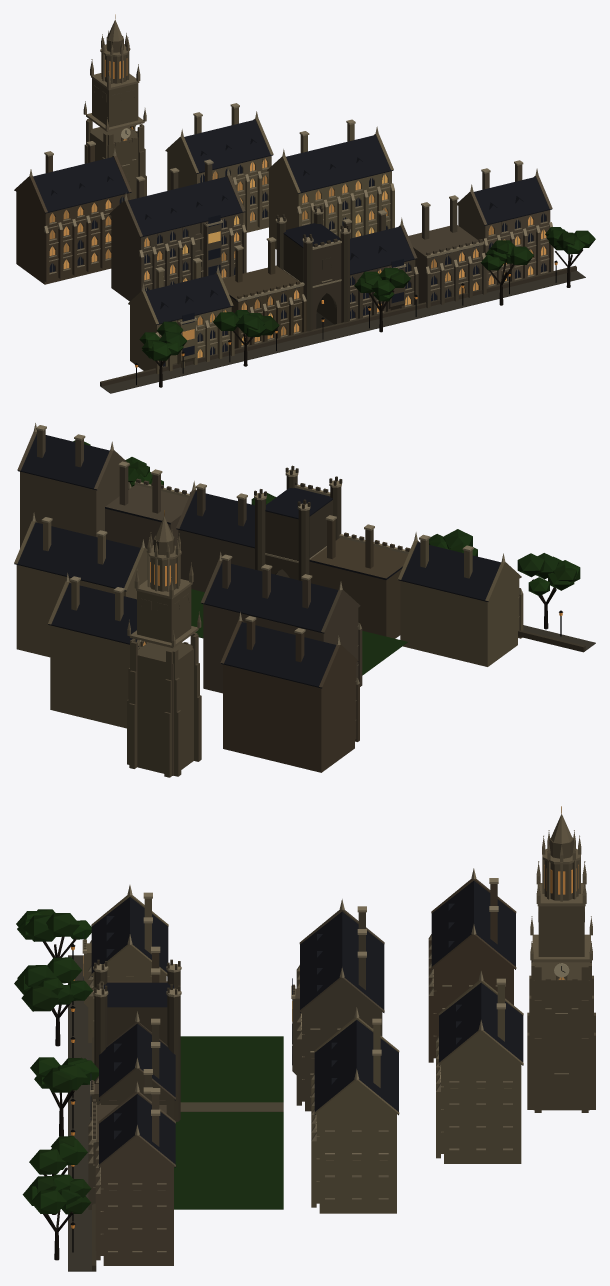
Rendered from campus.glb.
3 renders of one model, top to bottom at view 1: azimuth 30°, elevation 25°; view 2: azimuth 150°, elevation 25°; view 3: azimuth 270°, elevation 25°, orthographic. The views are drawn at different scales.
Visible parts, largest first — view 1: yale_Stone, yale_tower_Stone, yale_Roof, yale_tower_Roof, yale_Foliage, yale_Glass, yale_tower_Glass, yale_Wood; view 2: yale_Stone, yale_tower_Stone, yale_Roof, yale_tower_Roof, yale_Foliage; view 3: yale_Stone, yale_tower_Stone, yale_Foliage, yale_Roof, yale_tower_Roof, yale_Wood.
Part boxes in pixels (bbox=[...]): yale_Stone: bbox=[100, 119, 585, 393]; yale_tower_Stone: bbox=[14, 20, 273, 284]; yale_Roof: bbox=[109, 135, 551, 325]; yale_tower_Roof: bbox=[14, 119, 272, 213]; yale_Foliage: bbox=[139, 227, 595, 360]; yale_Glass: bbox=[144, 174, 546, 366]; yale_tower_Glass: bbox=[49, 58, 267, 272]; yale_Wood: bbox=[155, 249, 582, 387]; yale_Stone: bbox=[14, 423, 595, 693]; yale_tower_Stone: bbox=[48, 516, 359, 777]; yale_Roof: bbox=[14, 434, 521, 633]; yale_tower_Roof: bbox=[48, 583, 358, 688]; yale_Foliage: bbox=[73, 440, 580, 675]; yale_Stone: bbox=[68, 885, 399, 1271]; yale_tower_Stone: bbox=[428, 814, 595, 1163]; yale_Foliage: bbox=[14, 909, 283, 1214]; yale_Roof: bbox=[91, 897, 398, 1167]; yale_tower_Roof: bbox=[431, 881, 523, 1065]; yale_Wood: bbox=[43, 936, 76, 1260].
Bounding box in the file's own units: 102 × 44.03 × 79.55.
